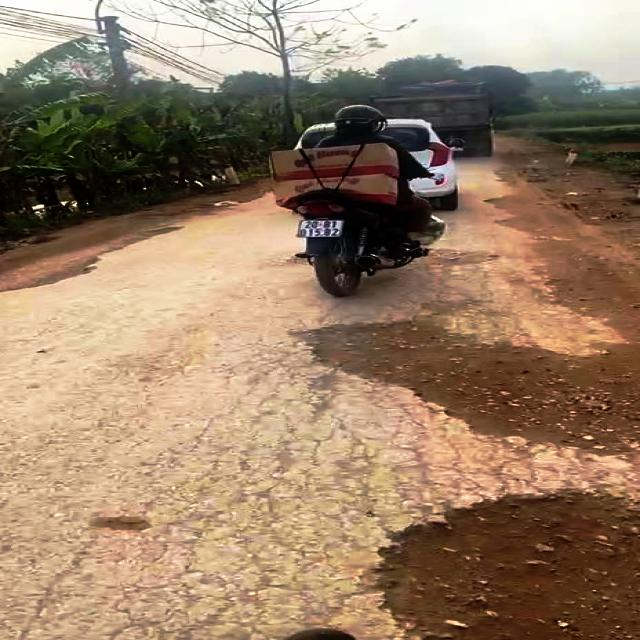pothole: (285, 312, 640, 467), (357, 483, 640, 640), (0, 222, 189, 291), (482, 195, 566, 236), (399, 245, 491, 268)
